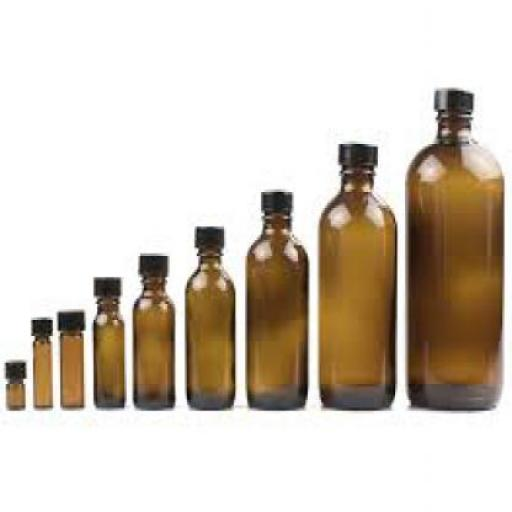glass: (405, 109, 502, 408), (315, 166, 394, 406), (245, 210, 308, 405), (184, 242, 232, 408), (130, 274, 174, 408), (93, 294, 125, 406), (58, 330, 82, 406), (31, 336, 50, 406), (6, 378, 24, 406)
metal: (336, 134, 374, 166), (433, 85, 473, 114), (261, 184, 288, 214), (136, 251, 168, 275), (89, 272, 121, 294), (56, 306, 82, 328), (193, 224, 222, 242), (31, 312, 50, 334), (4, 360, 23, 378)
